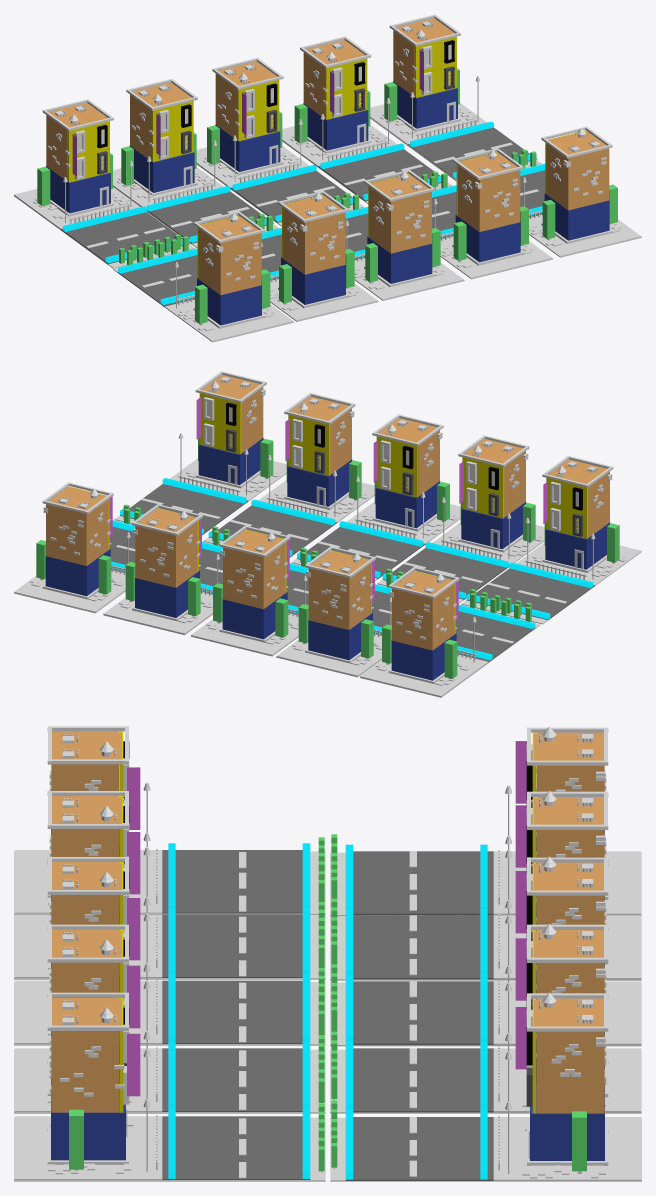
File: Day1Building.glb
3 views of the same model, one above another, from view 1: azimuth 30°, elevation 25°; view 2: azimuth 150°, elevation 25°; view 3: azimuth 270°, elevation 25° (orthographic). The views are drawn at different scales.
Visible parts, largest first — view 1: Cube.316, Cube.438, Cube.499, Cube.560, Cube.377, Cube.012, Cube.196, Cube.135, Cube.257, Cube.037, Cube.562, Cube.198 (+69 smaller); view 2: Cube.194, Cube.016, Cube.010, Cube.133, Cube.255, Cube.562, Cube.379, Cube.318, Cube.440, Cube.501, Cube.012, Cube.320 (+69 smaller); view 3: Cube.037, Cube.196, Cube.012, Cube.257, Cube.318, Cube.440, Cube.501, Cube.379, Cube.135, Cube.562, Cube.316, Cube.255 (+62 smaller).
Part boxes in pixels (<box>): Cube.316: <box>546,131,609,210</box>; Cube.438: <box>369,174,431,253</box>; Cube.499: <box>283,195,345,274</box>; Cube.560: <box>199,216,261,294</box>; Cube.377: <box>458,153,520,231</box>; Cube.012: <box>61,212,189,264</box>; Cube.196: <box>318,149,441,201</box>; Cube.135: <box>230,171,359,222</box>; Cube.257: <box>408,127,536,179</box>; Cube.037: <box>147,191,273,243</box>; Cube.562: <box>118,255,197,306</box>; Cube.198: <box>303,103,368,150</box>; Cube.194: <box>135,509,197,587</box>; Cube.016: <box>308,551,370,629</box>; Cube.010: <box>392,571,454,650</box>; Cube.133: <box>223,530,285,609</box>; Cube.255: <box>46,487,108,565</box>; Cube.562: <box>467,568,594,619</box>; Cube.379: <box>209,505,336,557</box>; Cube.318: <box>120,484,248,534</box>; Cube.440: <box>297,527,425,578</box>; Cube.501: <box>382,548,509,599</box>; Cube.012: <box>455,611,535,662</box>; Cube.320: <box>198,438,263,484</box>; Cube.037: <box>353,915,493,979</box>; Cube.196: <box>353,1048,493,1112</box>; Cube.012: <box>353,851,493,915</box>; Cube.257: <box>345,1117,493,1180</box>; Cube.318: <box>162,1116,310,1179</box>; Cube.440: <box>162,980,302,1043</box>; Cube.501: <box>162,914,302,977</box>; Cube.379: <box>162,1048,302,1111</box>; Cube.135: <box>353,981,493,1044</box>; Cube.562: <box>162,850,302,913</box>; Cube.316: <box>51,998,119,1112</box>; Cube.255: <box>536,998,604,1113</box>.
Size of the model in its own units: 211 by 44.84 by 170.
